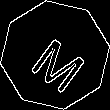M_NE: (21, 21, 89, 89)
